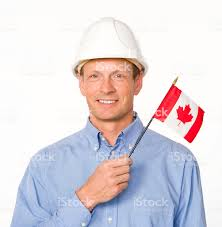Person_wearing_helmet: (67, 10, 146, 86)
